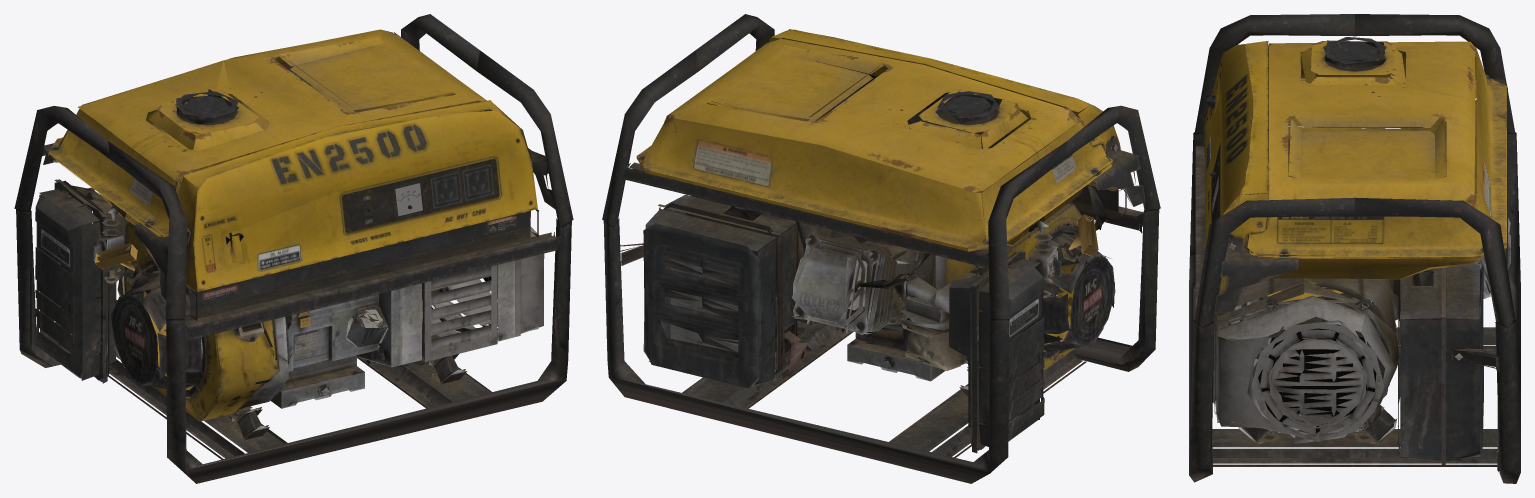
File: portable_generator.glb
The picture shows the model from 3 angles, left to right: view 1: azimuth 30°, elevation 25°; view 2: azimuth 150°, elevation 25°; view 3: azimuth 270°, elevation 25°; orthographic projection.
Parts seen in each view (by area): view 1: portable_generator; view 2: portable_generator; view 3: portable_generator.
Part boxes in pixels (left/top/right/bottom): portable_generator: left=14, top=14, right=573, bottom=483; portable_generator: left=602, top=14, right=1160, bottom=483; portable_generator: left=1189, top=14, right=1520, bottom=483.
Bounding box in the file's own units: 0.8217 × 0.5768 × 0.5657.
2 materials, 2 textured.
